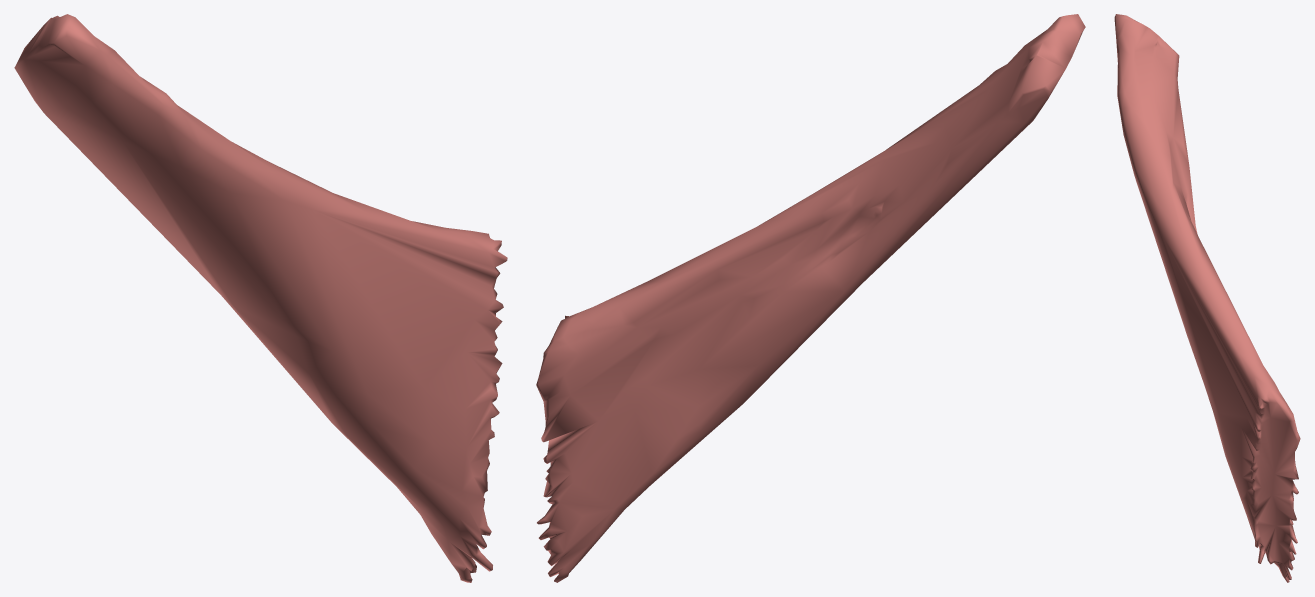
3 views of the same model, side by side, from view 1: azimuth 30°, elevation 25°; view 2: azimuth 150°, elevation 25°; view 3: azimuth 270°, elevation 25° (orthographic). The views are drawn at different scales.
Parts seen in each view (by area): view 1: ZA_3e8d810d40c1c3fc; view 2: ZA_3e8d810d40c1c3fc; view 3: ZA_3e8d810d40c1c3fc.
Part boxes in pixels (x1=…): ZA_3e8d810d40c1c3fc: x1=14, y1=14, x2=507, y2=582; ZA_3e8d810d40c1c3fc: x1=536, y1=14, x2=1085, y2=582; ZA_3e8d810d40c1c3fc: x1=1114, y1=14, x2=1300, y2=582.
Size of the model in its own units: 0.0801 by 0.1044 by 0.0413.
